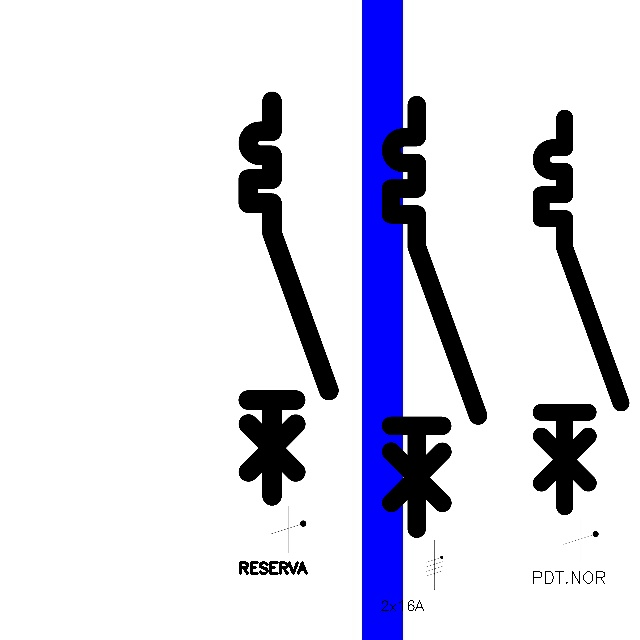interruptor_termomagnetico: (380, 94, 489, 539), (238, 91, 339, 506), (531, 108, 631, 517)
